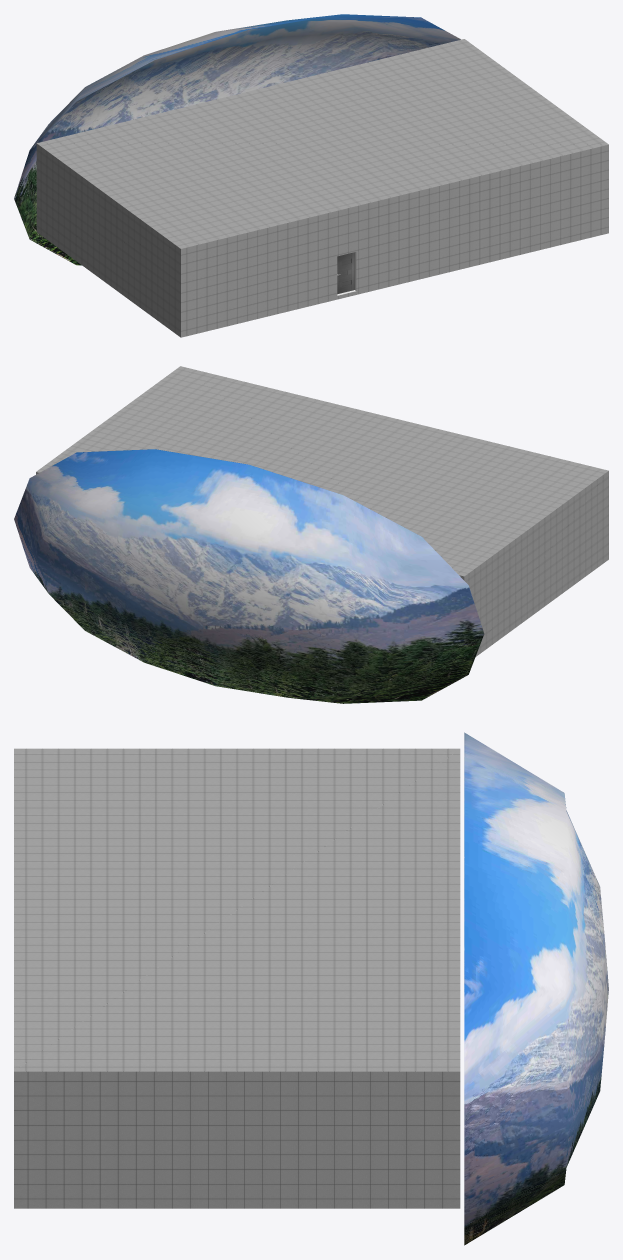
The picture shows the model from 3 angles, top to bottom: view 1: azimuth 30°, elevation 25°; view 2: azimuth 150°, elevation 25°; view 3: azimuth 270°, elevation 25°; orthographic projection. The views are drawn at different scales.
Visible parts, largest first — view 1: polySurface4, polySurface8, pPlane1, polySurface5, Door; view 2: pPlane1, polySurface4, polySurface5; view 3: polySurface4, polySurface6, pPlane1.
Boxes of the visible parts, x1,y1,x2,y2 form: polySurface4: (37, 39, 608, 248); polySurface8: (181, 144, 608, 337); pPlane1: (14, 14, 460, 265); polySurface5: (36, 143, 180, 337); Door: (337, 252, 353, 293); pPlane1: (14, 449, 484, 703); polySurface4: (36, 366, 608, 576); polySurface5: (464, 471, 608, 656); polySurface4: (14, 748, 460, 1071); polySurface6: (14, 1071, 460, 1208); pPlane1: (464, 732, 608, 1245).
Size of the model in its own units: 2995 by 1361 by 2125.
